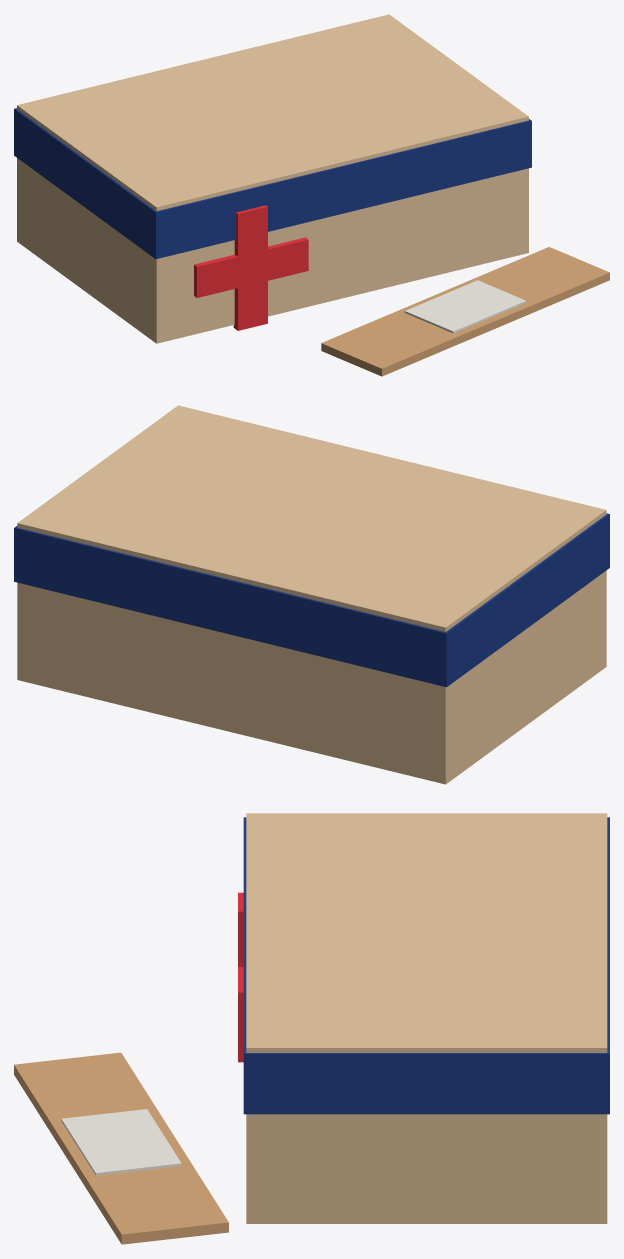
Rendered from plasters.glb.
3 views of the same model, one above another, from view 1: azimuth 30°, elevation 25°; view 2: azimuth 150°, elevation 25°; view 3: azimuth 270°, elevation 25° (orthographic). The views are drawn at different scales.
Parts seen in each view (by area): view 1: plasters; view 2: plasters; view 3: plasters.
Part boxes in pixels (x1,y1,x2,y2): plasters: (14,14,609,376); plasters: (14,405,609,784); plasters: (14,813,609,1244).
Size of the model in its own units: 0.1093 by 0.036 by 0.1074.
